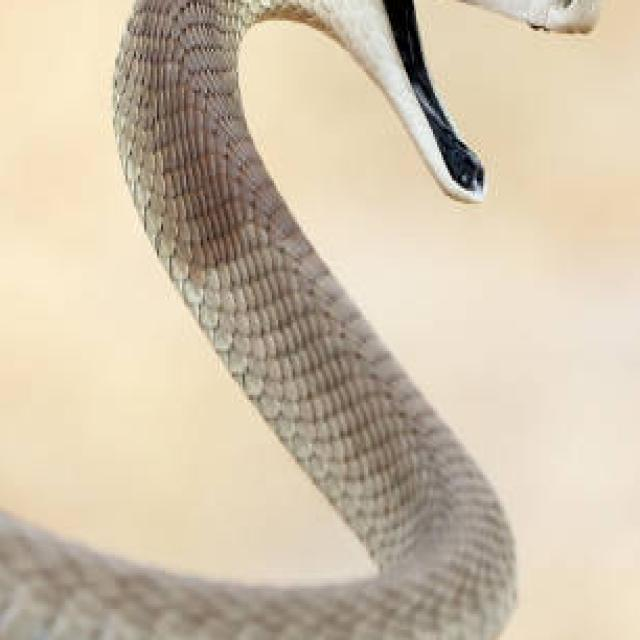snake: (0, 0, 602, 640)
